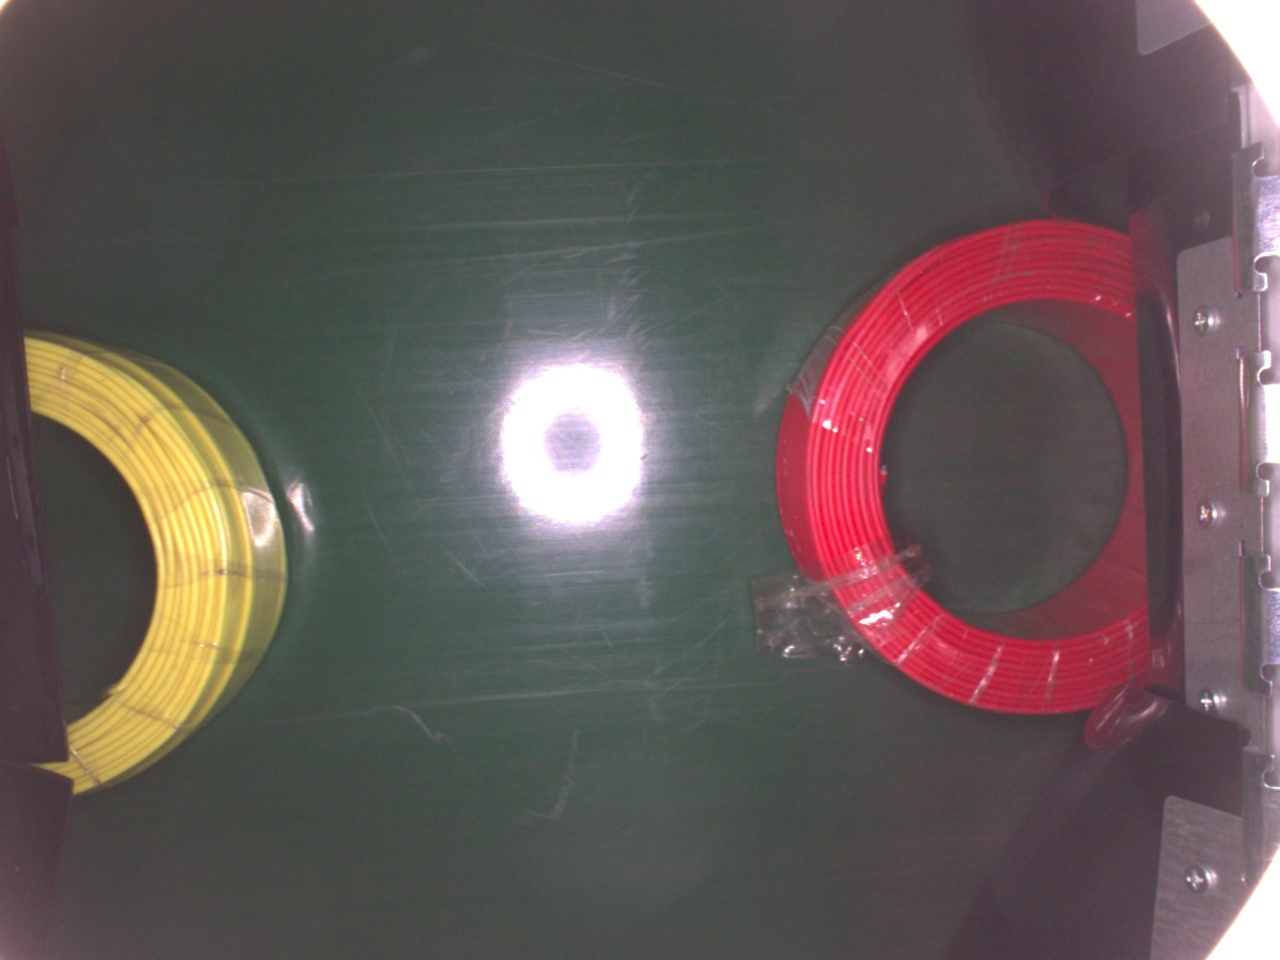red: (772, 216, 1154, 718)
yellow: (21, 329, 289, 793)
